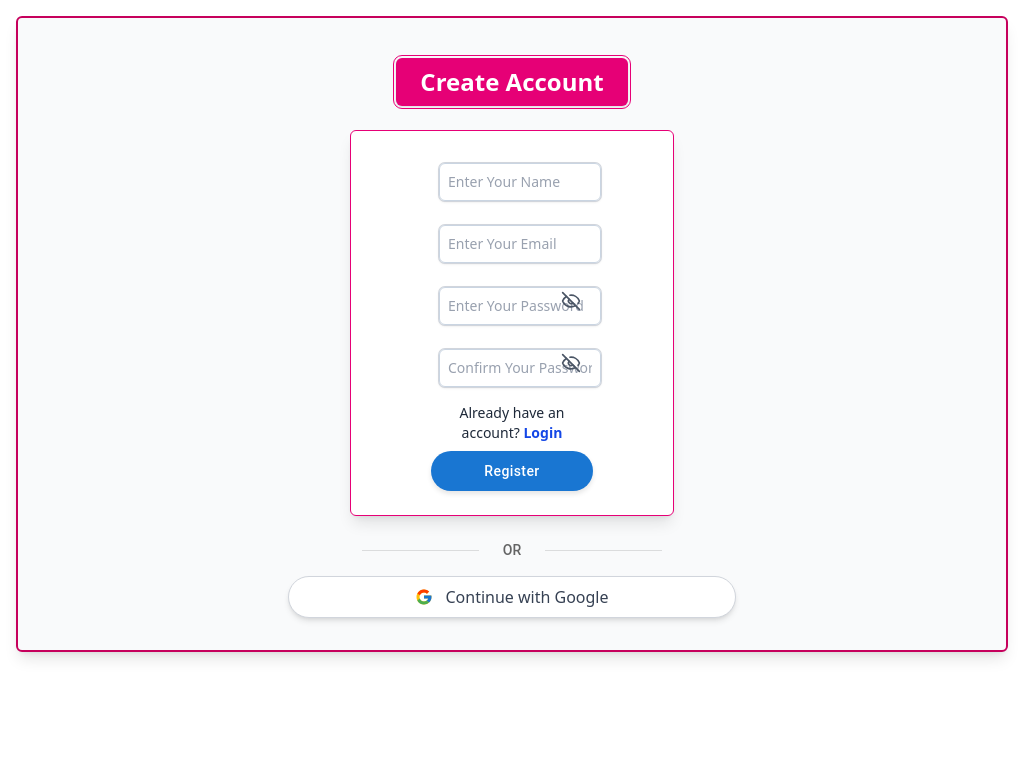
Test: SignUp Component › shows error if passwords do not match
The image size is (1024, 768).
Type "Password123!" into the password field with placeholder "Enter Your Password" at (520, 306), box left=439, top=287, right=601, bottom=325
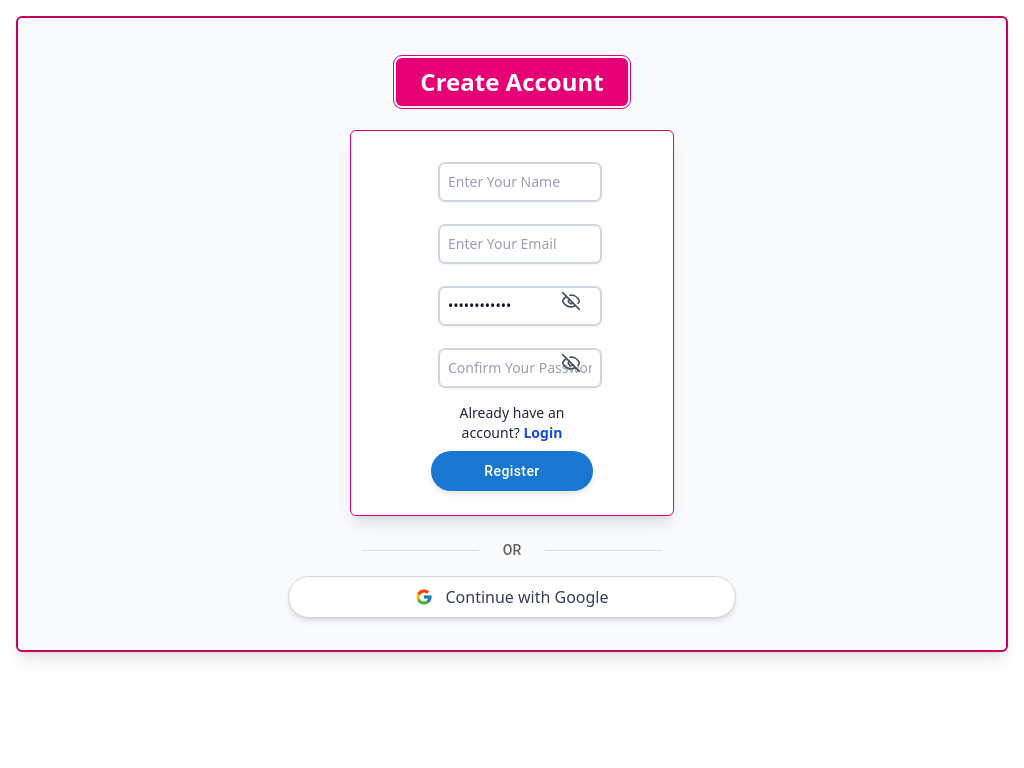
Type "Password1234!" into the password field with placeholder "Confirm Your Password" at (520, 368), box left=439, top=349, right=601, bottom=387
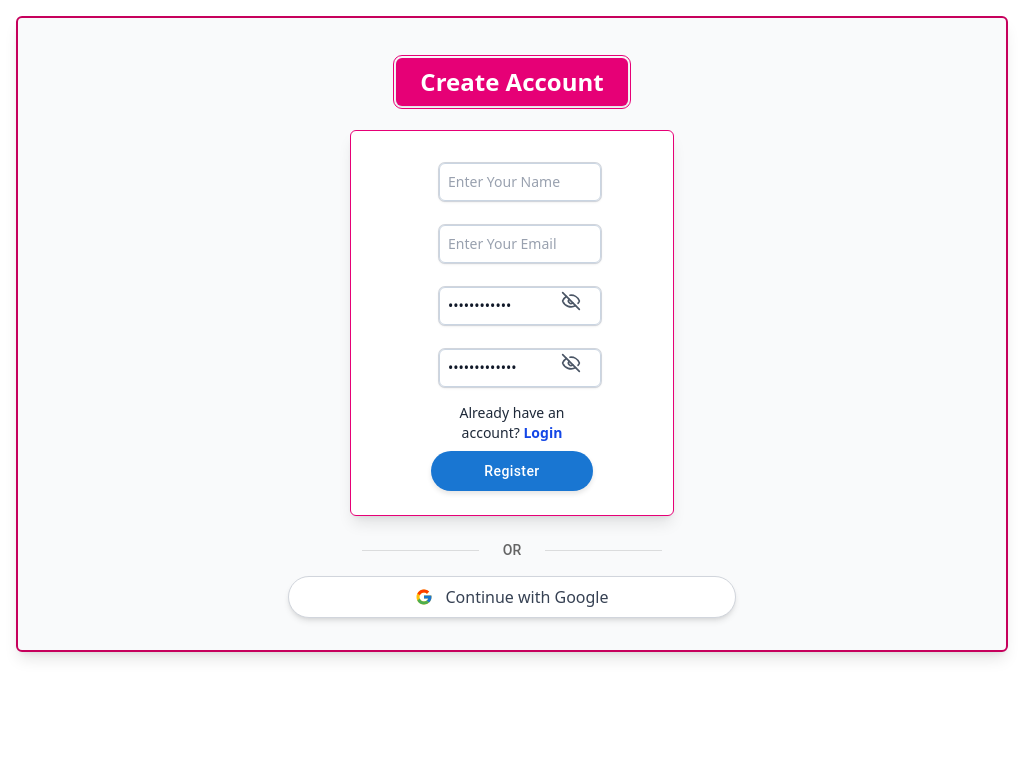
Click the button "Register" at (512, 471), box left=431, top=451, right=593, bottom=491
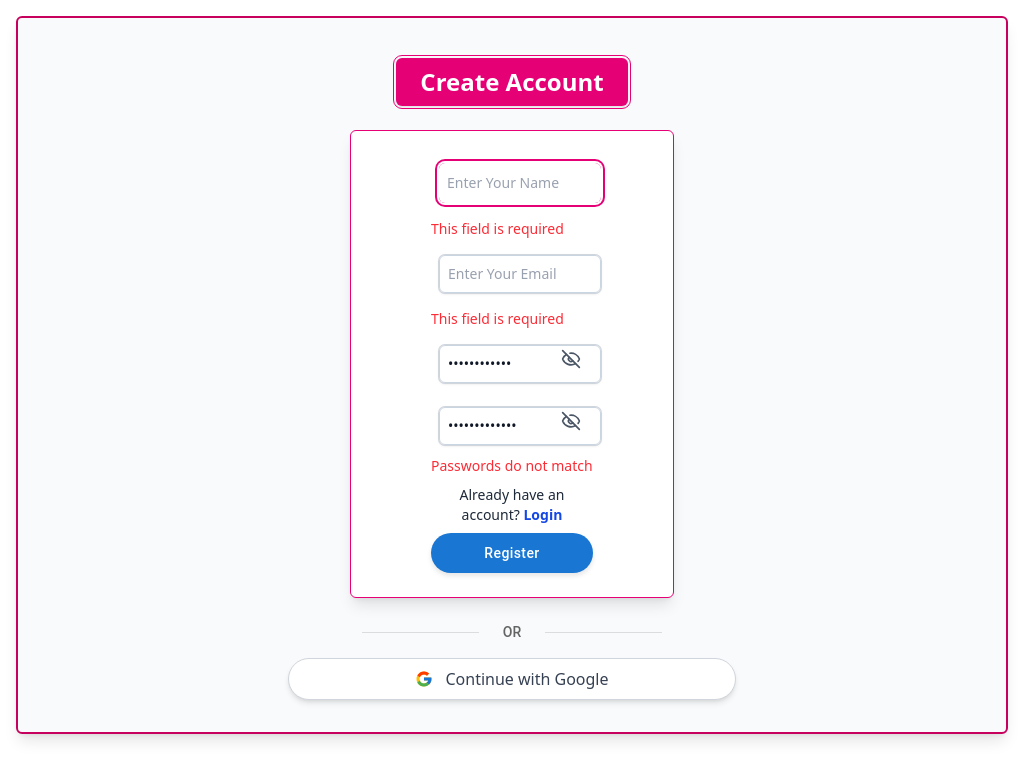
Check: the text "Passwords do not match" is shown, box left=431, top=456, right=593, bottom=475
